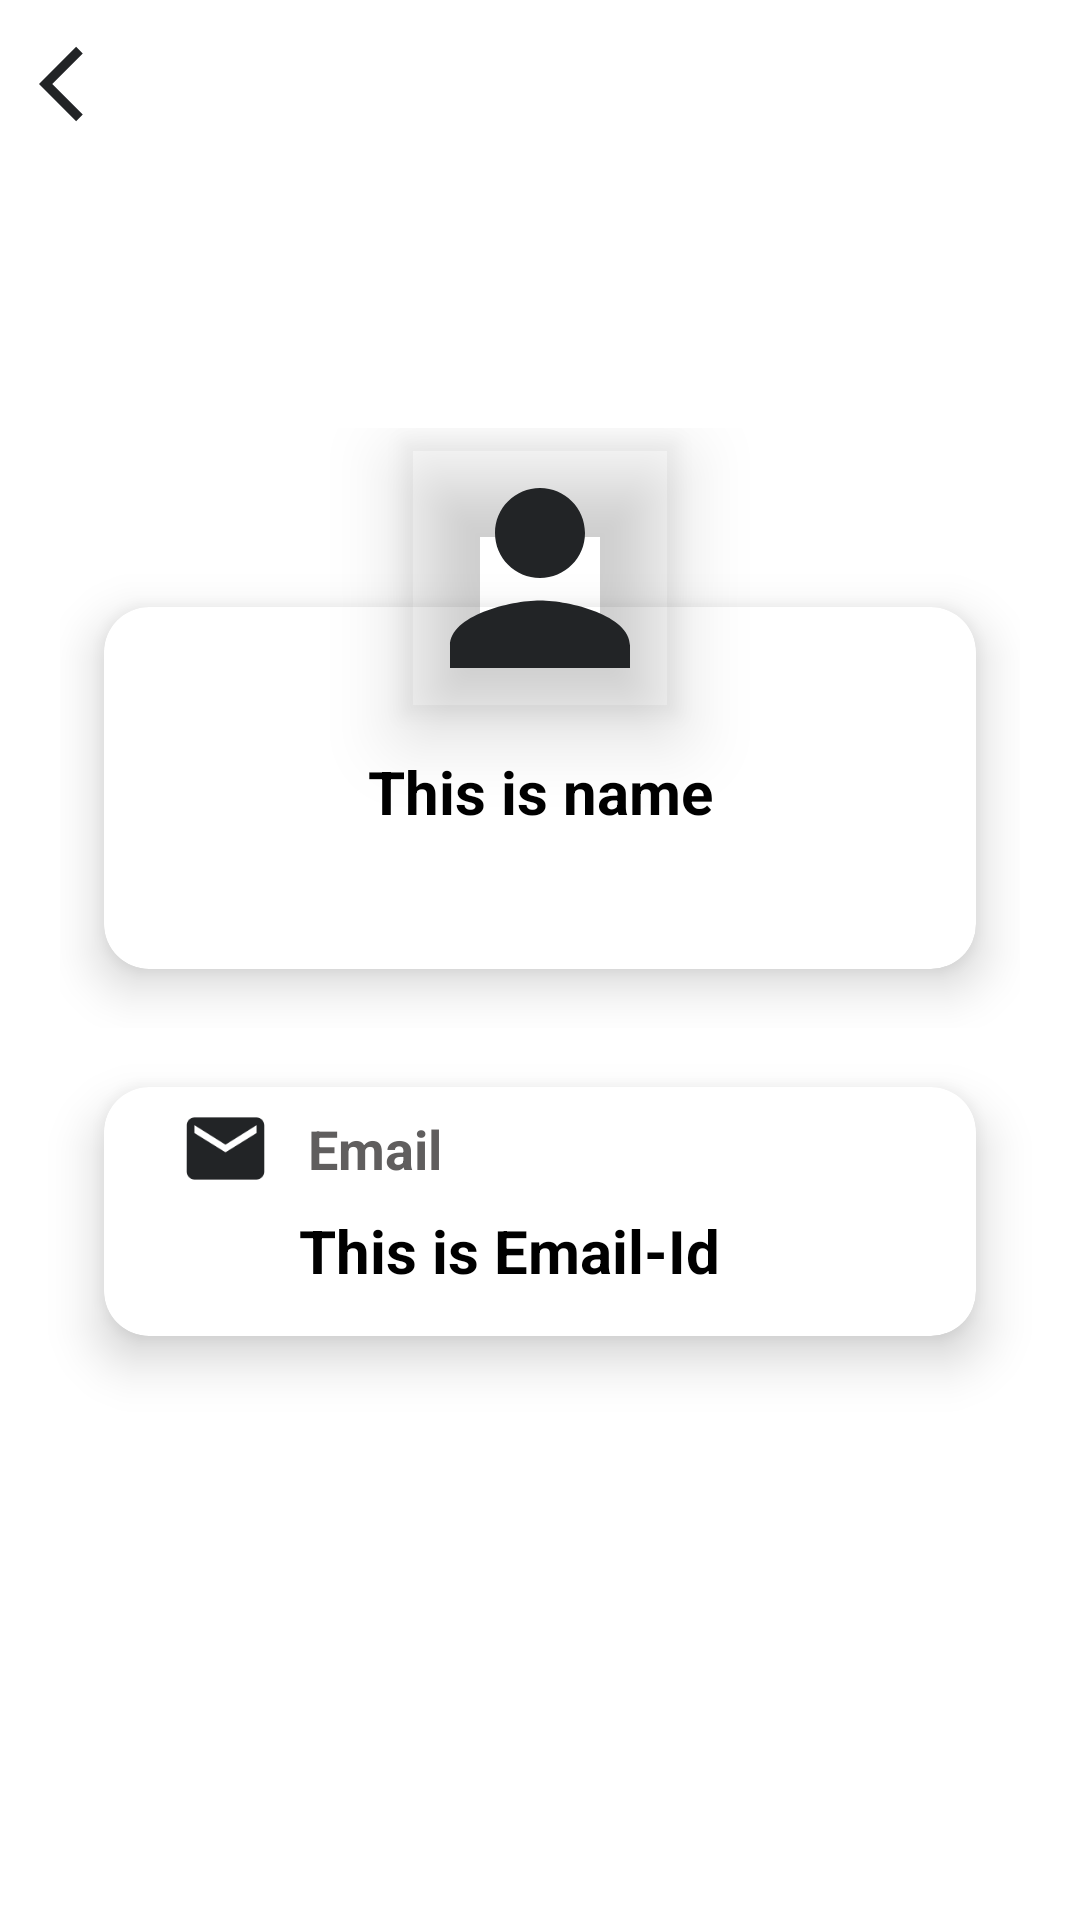

Icons on this 1080 x 1920 Android screen, each with the point to tap as [x,y]:
arrow back: [61,84]
person: [540,599]
